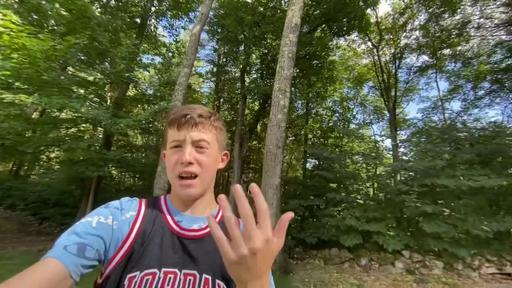human: (0, 104, 295, 288)
